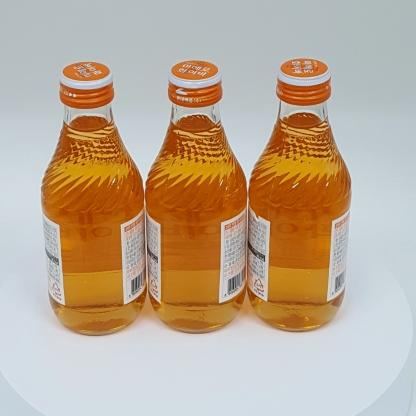--------210ML: (42, 61, 147, 335), (247, 57, 351, 333), (145, 59, 247, 334)
